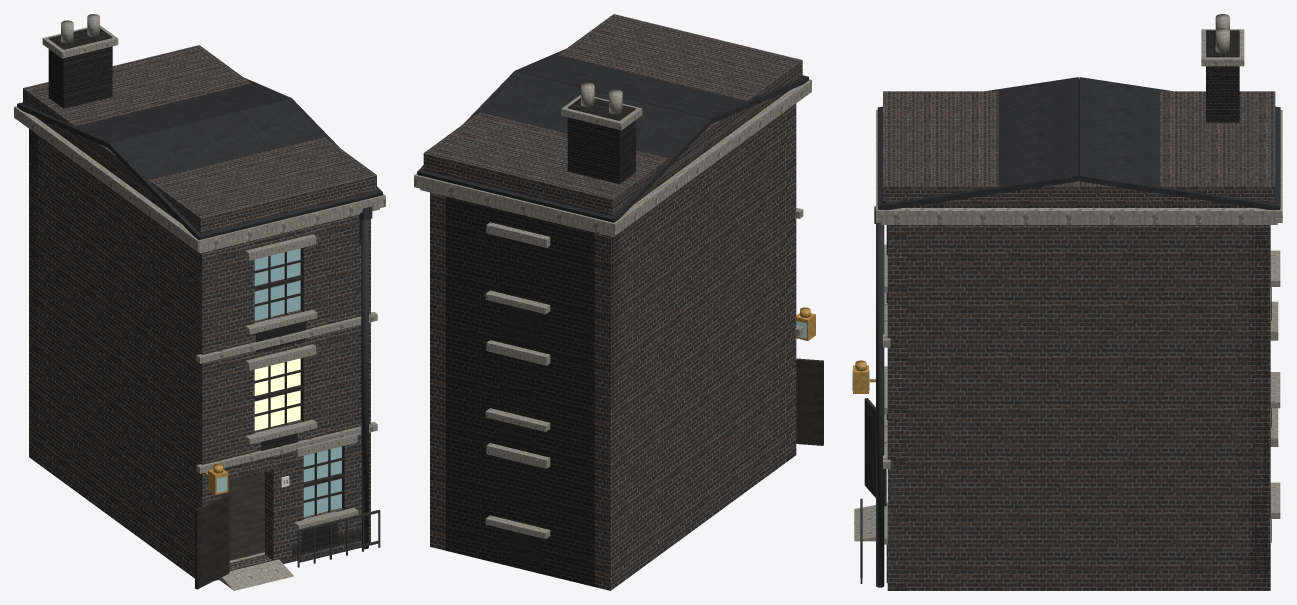
Rendered from prop_ashmoor_terrace_narrow.glb.
3 renders of one model, left to right at view 1: azimuth 30°, elevation 25°; view 2: azimuth 150°, elevation 25°; view 3: azimuth 270°, elevation 25°, orthographic. The views are drawn at different scales.
Visible parts, largest first — view 1: building_ashmoor_narrow; view 2: building_ashmoor_narrow; view 3: building_ashmoor_narrow.
Part boxes in pixels (x1=…): building_ashmoor_narrow: x1=14, y1=14, x2=385, y2=590; building_ashmoor_narrow: x1=414, y1=14, x2=823, y2=590; building_ashmoor_narrow: x1=852, y1=14, x2=1282, y2=590.
Bounding box in the file's own units: 5.18 × 11.35 × 8.99.
Materials: 13 (11 with a texture image).
